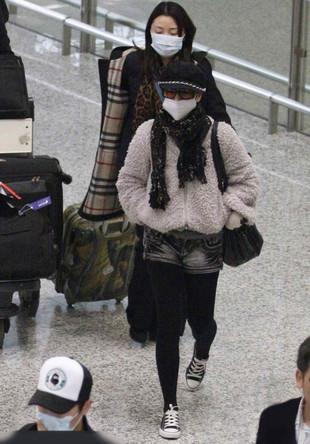OK: (150, 23, 183, 56)
WRONG: (36, 401, 80, 437), (164, 90, 198, 121)
